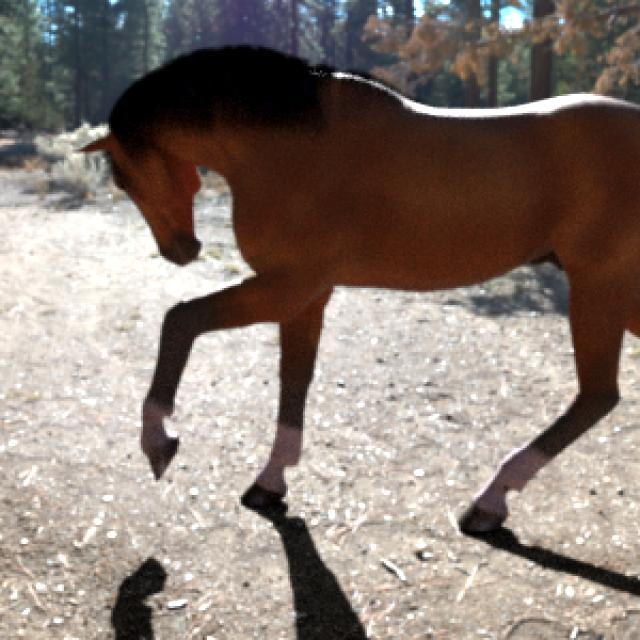horse: (85, 46, 640, 533)
